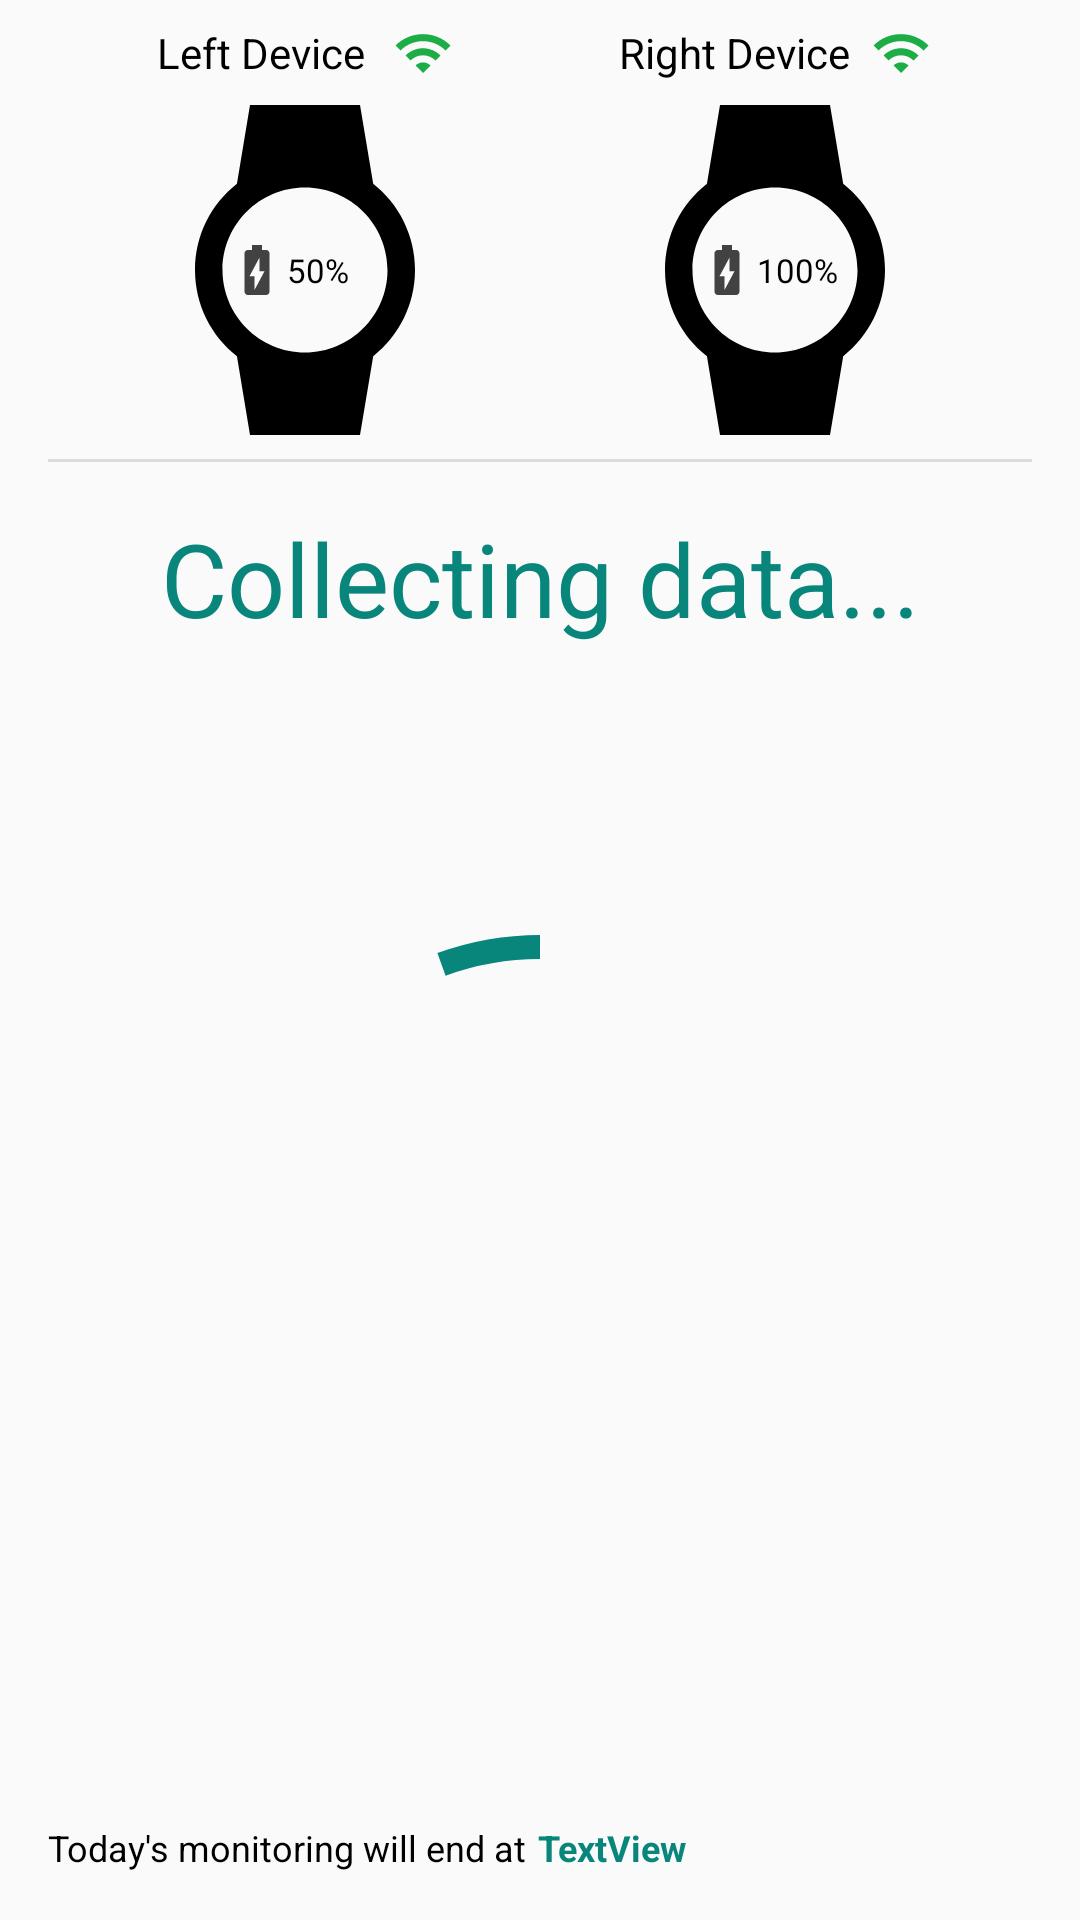

Icon click points for this 1080px x 1920px phone screenshot, format [x,y]:
wifi: [423,53], [901,53]
